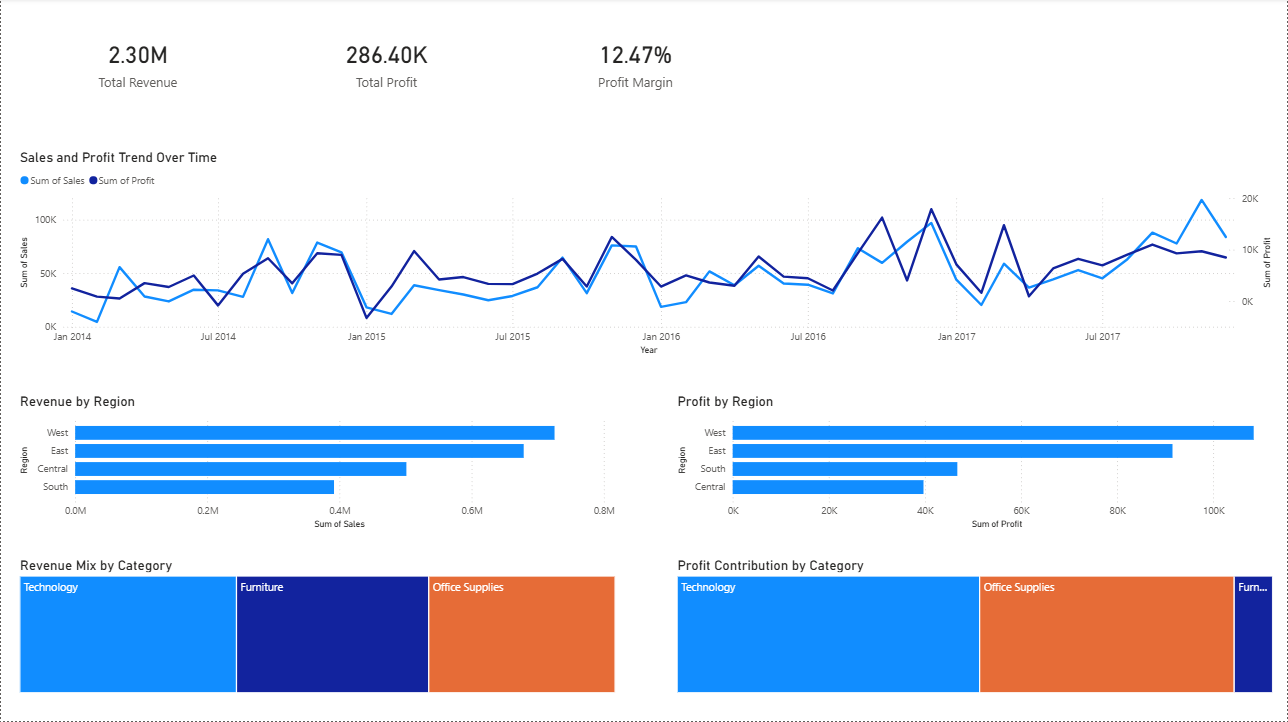

The page's visual inventory and layout, read from the dashboard file:
{"tool":"powerbi","page":{"name":"Sales Performance Overview","canvas":[1600,900],"ordinal":0},"visuals":[{"type":"card","fields":{"Values":["Orders.Total Revenue"]},"box":[40,20,260,120],"z":0},{"type":"card","fields":{"Values":["Orders.Total Profit"]},"box":[350,20,260,120],"z":1000},{"type":"card","fields":{"Values":["Orders.Profit Margin %"]},"box":[660,20,260,120],"z":2000},{"type":"lineChart","title":"Sales and Profit Trend Over Time","fields":{"Y":["Sum(Orders.Sales)"],"Y2":["Sum(Orders.Profit)"],"Category":["Orders.Order Date.Variation.Date Hierarchy.Year","Orders.Order Date.Variation.Date Hierarchy.Month"]},"box":[19.2,188.8,1568,260.8],"z":3000},{"type":"clusteredBarChart","title":"Revenue by Region","fields":{"Category":["Orders.Region"],"Y":["Sum(Orders.Sales)"]},"box":[19.2,491.2,750.4,174.4],"z":4000},{"type":"clusteredBarChart","title":"Profit by Region","fields":{"Category":["Orders.Region"],"Y":["Sum(Orders.Profit)"]},"box":[836.8,491.2,750.4,174.4],"z":5000},{"type":"treemap","title":"Revenue Mix by Category","fields":{"Group":["Orders.Category"],"Values":["Sum(Orders.Sales)"]},"box":[19.2,694.4,750.4,174.4],"z":6000},{"type":"treemap","title":"Profit Contribution by Category","fields":{"Group":["Orders.Category"],"Values":["Sum(Orders.Profit)"]},"box":[836.8,694.4,750.4,174.4],"z":7000}]}

Visuals, with their boxes in screenshot pixels (x1, y1, x2, y2), scaled from the page's 1600x900 canvas onto the 1288x722 screenshot:
card - Orders.Total Revenue: [x1=32, y1=16, x2=242, y2=112]
card - Orders.Total Profit: [x1=282, y1=16, x2=491, y2=112]
card - Orders.Profit Margin %: [x1=531, y1=16, x2=741, y2=112]
"Sales and Profit Trend Over Time" lineChart: [x1=15, y1=151, x2=1278, y2=361]
"Revenue by Region" clusteredBarChart: [x1=15, y1=394, x2=620, y2=534]
"Profit by Region" clusteredBarChart: [x1=674, y1=394, x2=1278, y2=534]
"Revenue Mix by Category" treemap: [x1=15, y1=557, x2=620, y2=697]
"Profit Contribution by Category" treemap: [x1=674, y1=557, x2=1278, y2=697]
